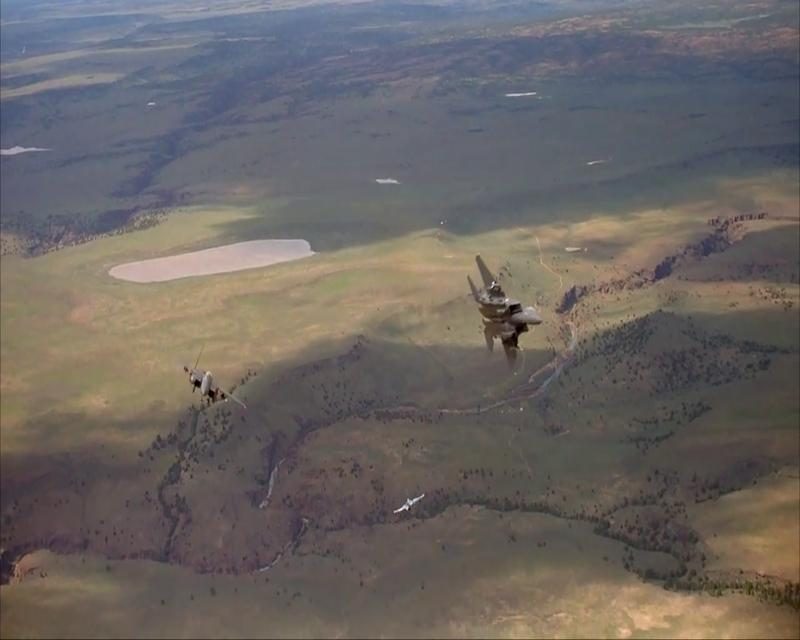UAV: (466, 252, 542, 370), (182, 341, 246, 409)
